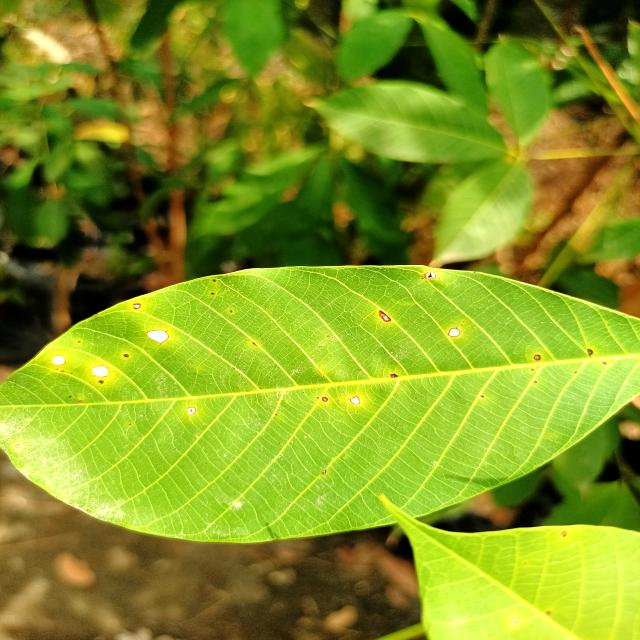Colletotrichum: (448, 328, 460, 337), (349, 396, 362, 404), (133, 303, 141, 310), (534, 354, 541, 360), (322, 396, 328, 402)
